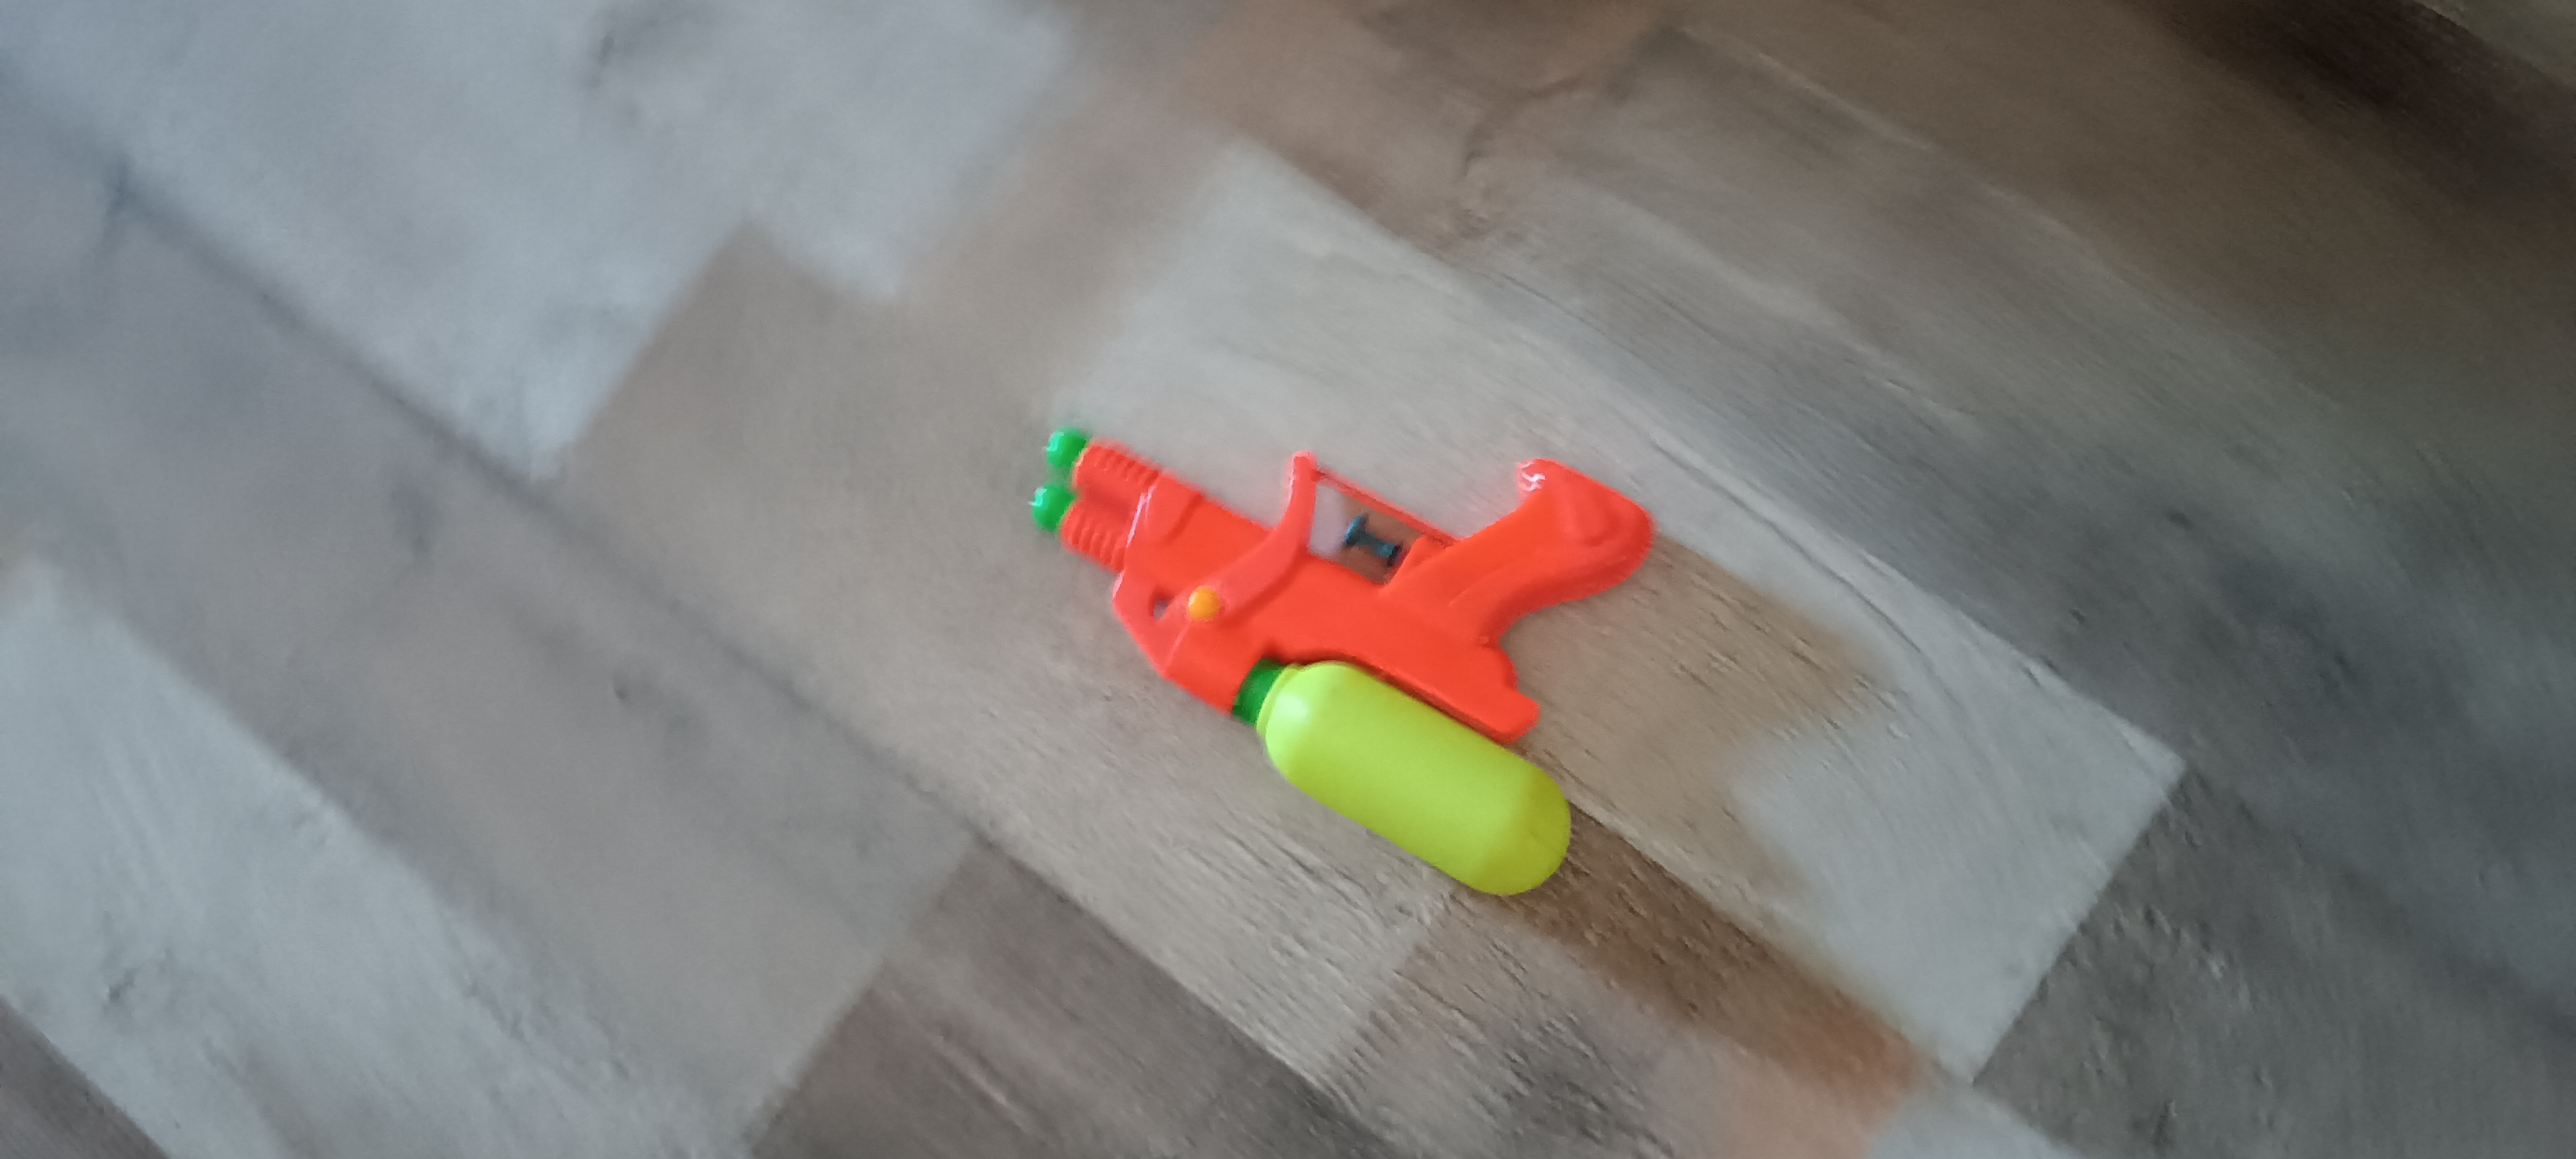Water Gun: (1030, 425, 1658, 895)
